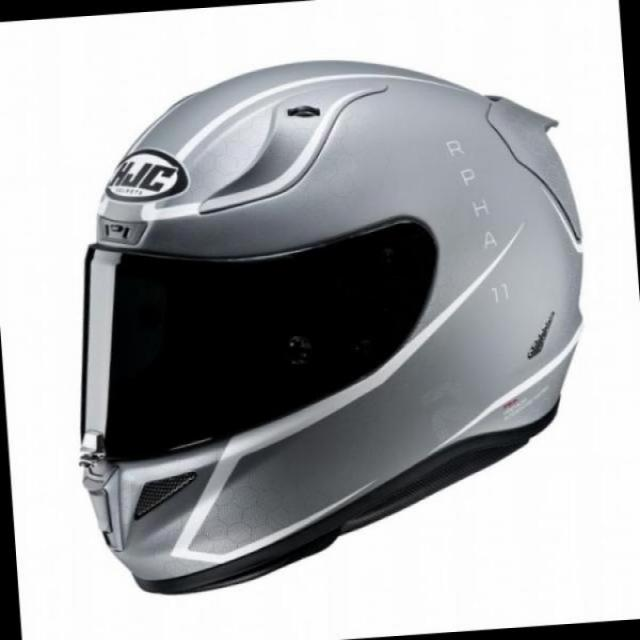Helmet: (76, 101, 628, 640)
